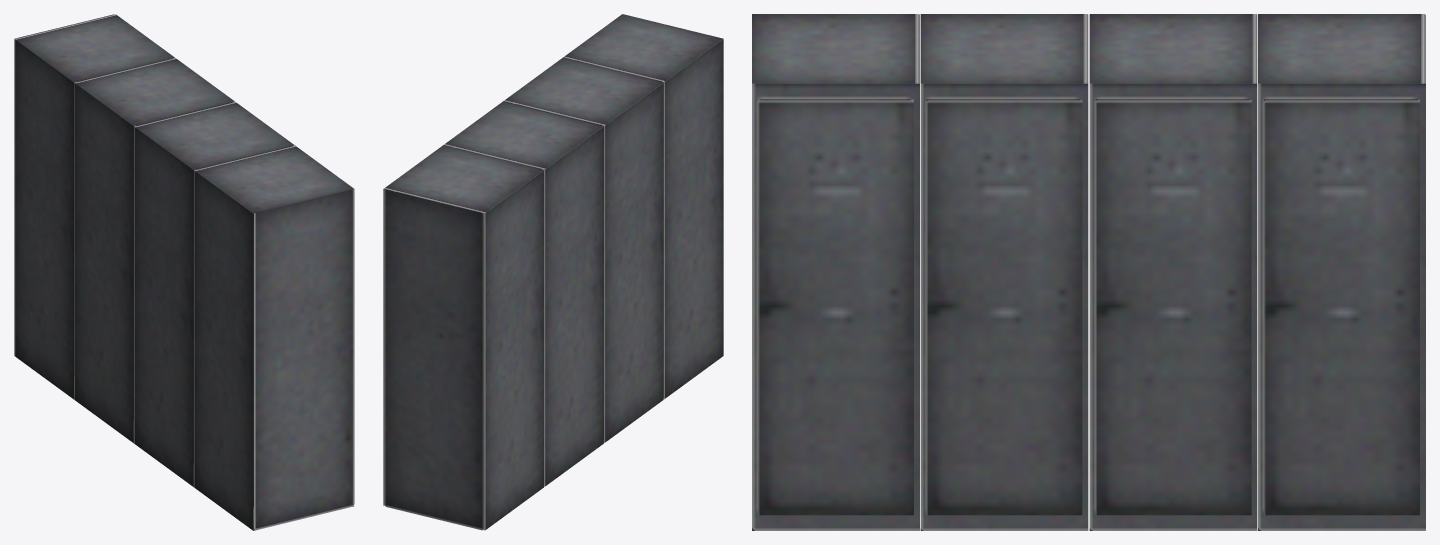
File: quad lockers.fbx
3 renders of one model, left to right at view 1: azimuth 30°, elevation 25°; view 2: azimuth 150°, elevation 25°; view 3: azimuth 270°, elevation 25°, orthographic. The views are drawn at different scales.
Visible parts, largest first — view 1: Quad Lockers; view 2: Quad Lockers; view 3: Quad Lockers, Lockers Door.001, Lockers Door.002, Lockers Door, Lockers Door.003.
Boxes of the visible parts, <box> form: Quad Lockers: <box>14,14,354,530</box>; Quad Lockers: <box>383,14,723,530</box>; Quad Lockers: <box>752,14,1425,530</box>; Lockers Door.001: <box>926,99,1082,515</box>; Lockers Door.002: <box>1095,99,1251,515</box>; Lockers Door: <box>758,99,913,515</box>; Lockers Door.003: <box>1264,99,1419,515</box>.
Bounding box in the file's own units: 100 × 300 × 409.
